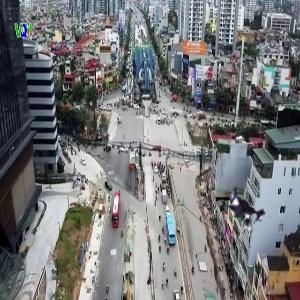drone: (209, 161, 288, 240)
